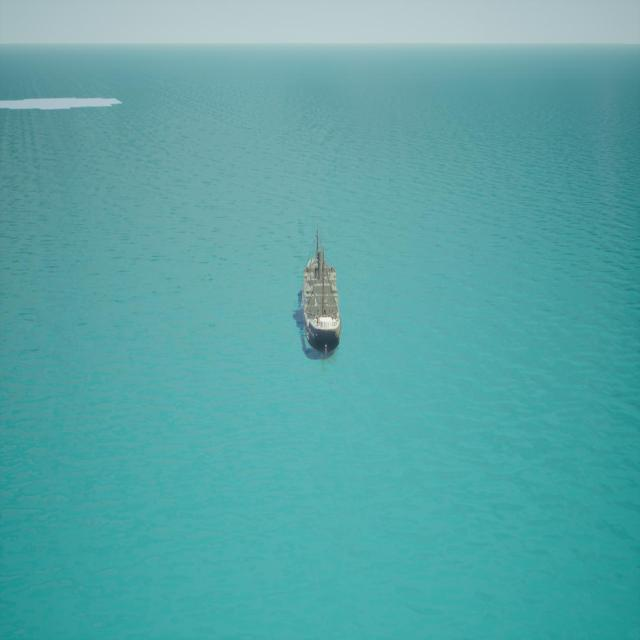fishing ship: (298, 229, 342, 360)
